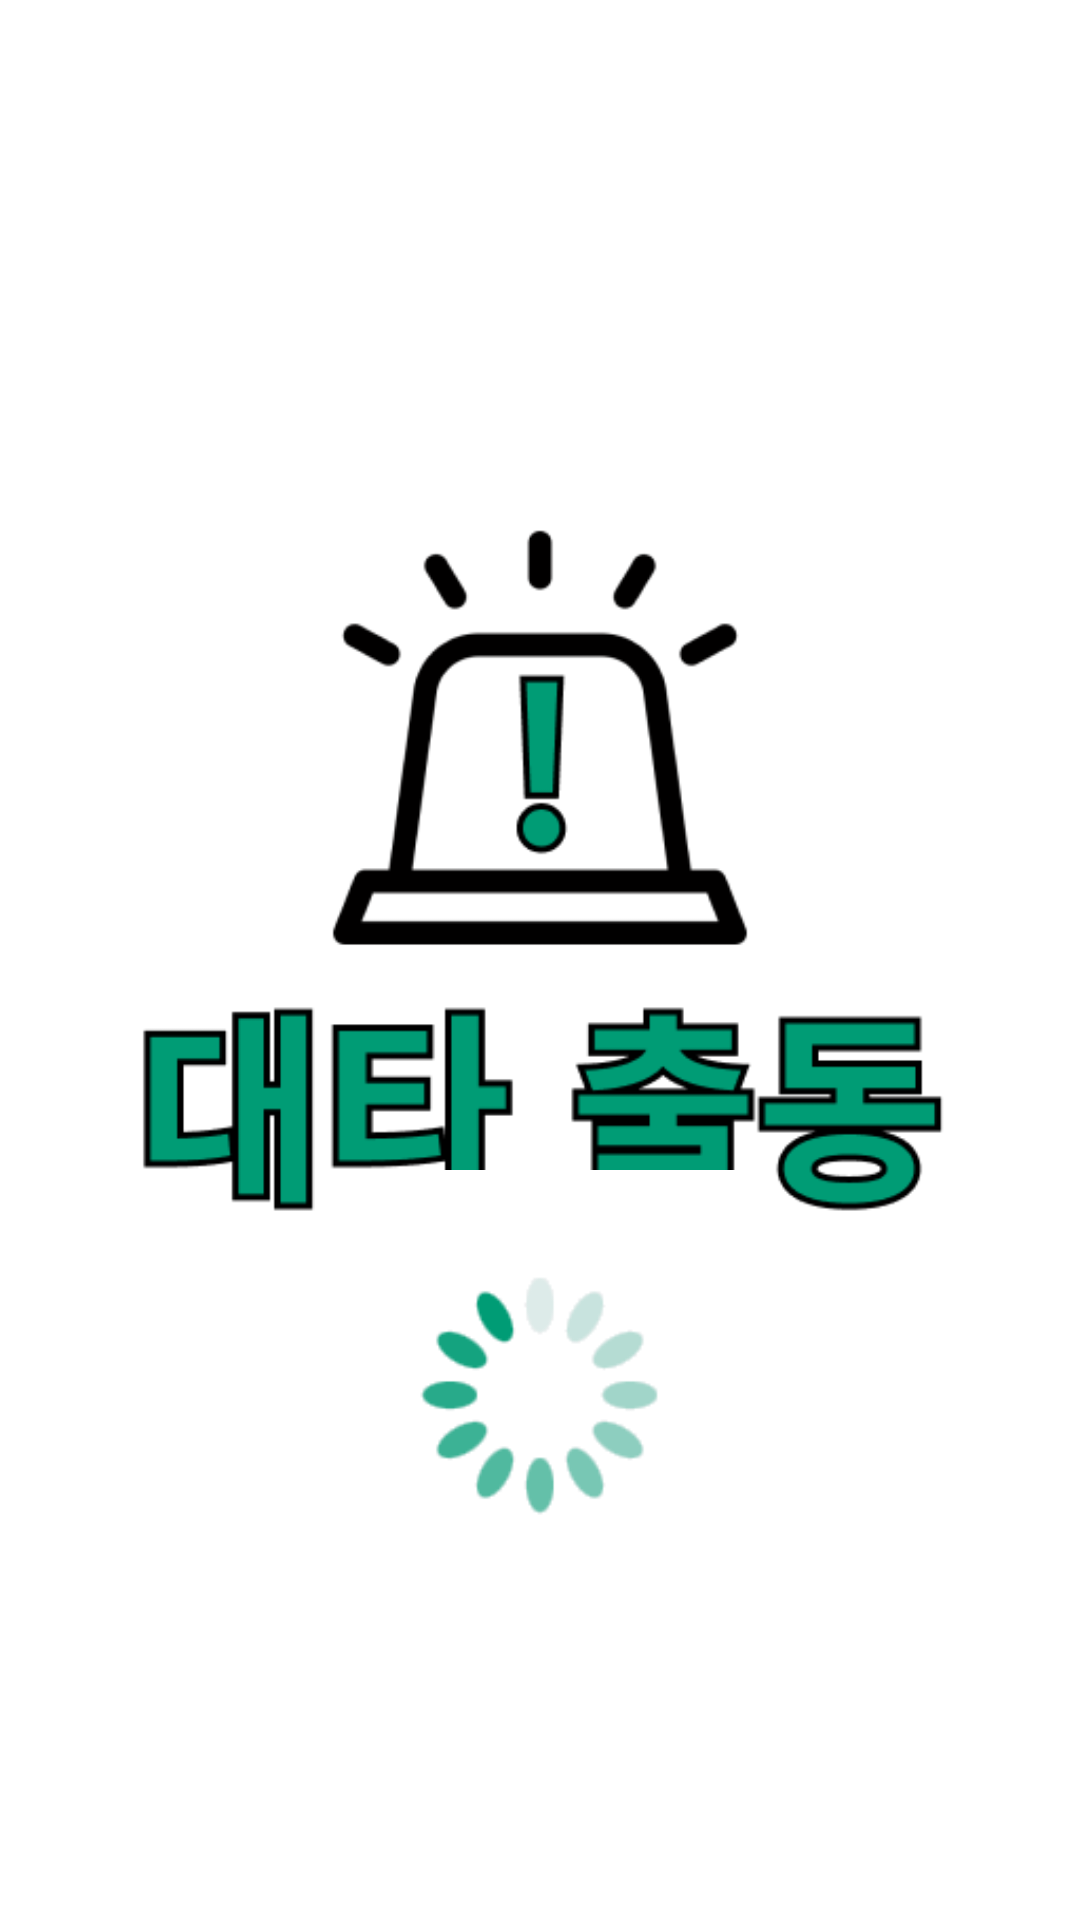

Icons on this 1080 × 1920 Android screen, each with the point to tap as (x=x, y=y):
load: (x=539, y=1396)
